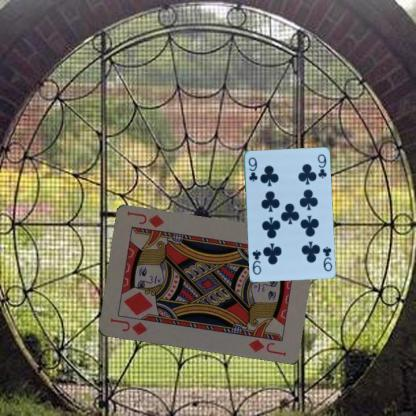9c: (245, 154, 259, 183), (319, 244, 333, 273)
Jd: (108, 315, 148, 337)
